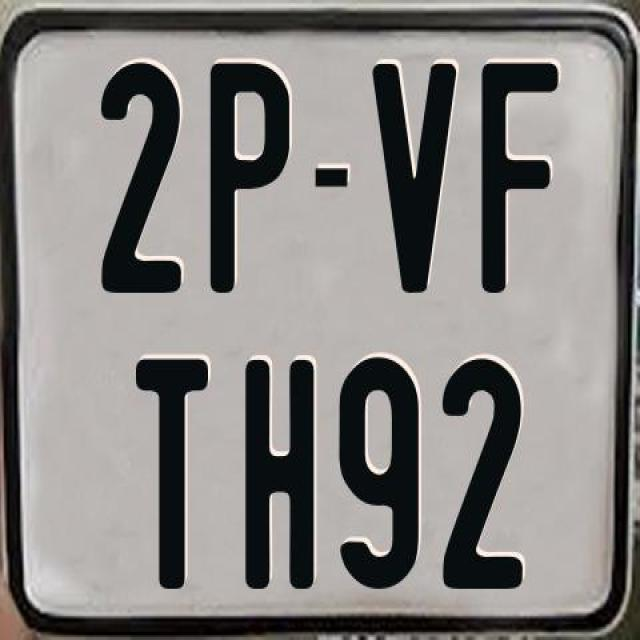2: (442, 358, 530, 596), (98, 61, 185, 300)
9: (338, 354, 426, 588)
F: (478, 59, 556, 293)
H: (242, 358, 310, 596)
P: (210, 62, 290, 302)
T: (132, 353, 207, 588)
V: (372, 62, 456, 292)
